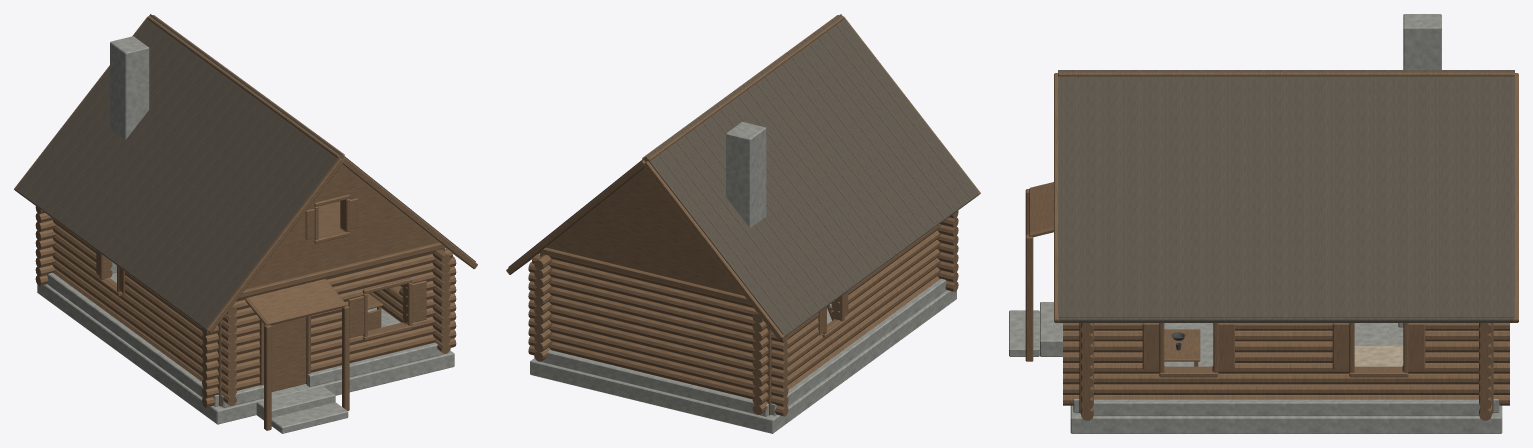
3 renders of one model, left to right at view 1: azimuth 30°, elevation 25°; view 2: azimuth 150°, elevation 25°; view 3: azimuth 270°, elevation 25°, orthographic. The views are drawn at different scales.
Parts seen in each view (by area): view 1: H01_roof_left, H01_wall_front, H01_wall_left, H01_foundation, H01_gable_front, H01_entry_canopy, H01_chimney, H01_verge_-1_-1, H01_stonecourse_left, H01_entry_leaf0, H01_wall_right, H01_stonecourse_front (+6 smaller); view 2: H01_roof_left, H01_wall_rear, H01_gable_rear, H01_wall_left, H01_foundation, H01_chimney, H01_stonecourse_rear, H01_verge_1_-1, H01_stonecourse_left, H01_wall_right, H01_ridge, H01_wall_front (+1 smaller); view 3: H01_roof_right, H01_wall_right, H01_foundation, H01_stonecourse_right, H01_entry_canopy, H01_ridge, H01_chimney, H01_wall_front, H01_wall_rear, table_top, bed_mattress, H01_verge_1_-1 (+5 smaller).
Boxes of the visible parts, bbox=[...] form: H01_roof_left: bbox=[16, 14, 341, 329]; H01_wall_front: bbox=[202, 194, 456, 407]; H01_wall_left: bbox=[52, 219, 236, 405]; H01_foundation: bbox=[37, 284, 454, 433]; H01_gable_front: bbox=[245, 164, 438, 289]; H01_entry_canopy: bbox=[245, 279, 349, 430]; H01_chimney: bbox=[110, 36, 149, 139]; H01_verge_-1_-1: bbox=[205, 157, 477, 333]; H01_stonecourse_left: bbox=[47, 272, 218, 406]; H01_entry_leaf0: bbox=[271, 317, 306, 391]; H01_wall_right: bbox=[369, 249, 450, 353]; H01_stonecourse_front: bbox=[221, 342, 444, 407]; H01_roof_left: bbox=[645, 14, 978, 336]; H01_wall_rear: bbox=[528, 247, 788, 416]; H01_gable_rear: bbox=[546, 168, 743, 295]; H01_wall_left: bbox=[752, 224, 941, 414]; H01_foundation: bbox=[530, 290, 956, 433]; H01_chimney: bbox=[726, 122, 766, 227]; H01_stonecourse_rear: bbox=[540, 350, 768, 416]; H01_verge_1_-1: bbox=[506, 160, 785, 340]; H01_stonecourse_left: bbox=[771, 278, 946, 415]; H01_wall_right: bbox=[534, 255, 552, 361]; H01_ridge: bbox=[642, 15, 844, 161]; H01_wall_front: bbox=[937, 210, 958, 291]; H01_roof_right: bbox=[1058, 70, 1514, 322]; H01_wall_right: bbox=[1063, 323, 1509, 405]; H01_foundation: bbox=[1009, 302, 1502, 433]; H01_stonecourse_right: bbox=[1081, 399, 1491, 415]; H01_entry_canopy: bbox=[1025, 182, 1053, 361]; H01_ridge: bbox=[1058, 70, 1514, 78]; H01_chimney: bbox=[1403, 14, 1441, 69]; H01_wall_front: bbox=[1079, 323, 1093, 420]; H01_wall_rear: bbox=[1479, 323, 1493, 420]; table_top: bbox=[1164, 329, 1200, 366]; bed_mattress: bbox=[1354, 346, 1403, 366]; H01_verge_1_-1: bbox=[1512, 73, 1518, 322].
Size of the model in its own units: 7.28 by 6.65 by 9.93.
5 materials, 4 textured.
